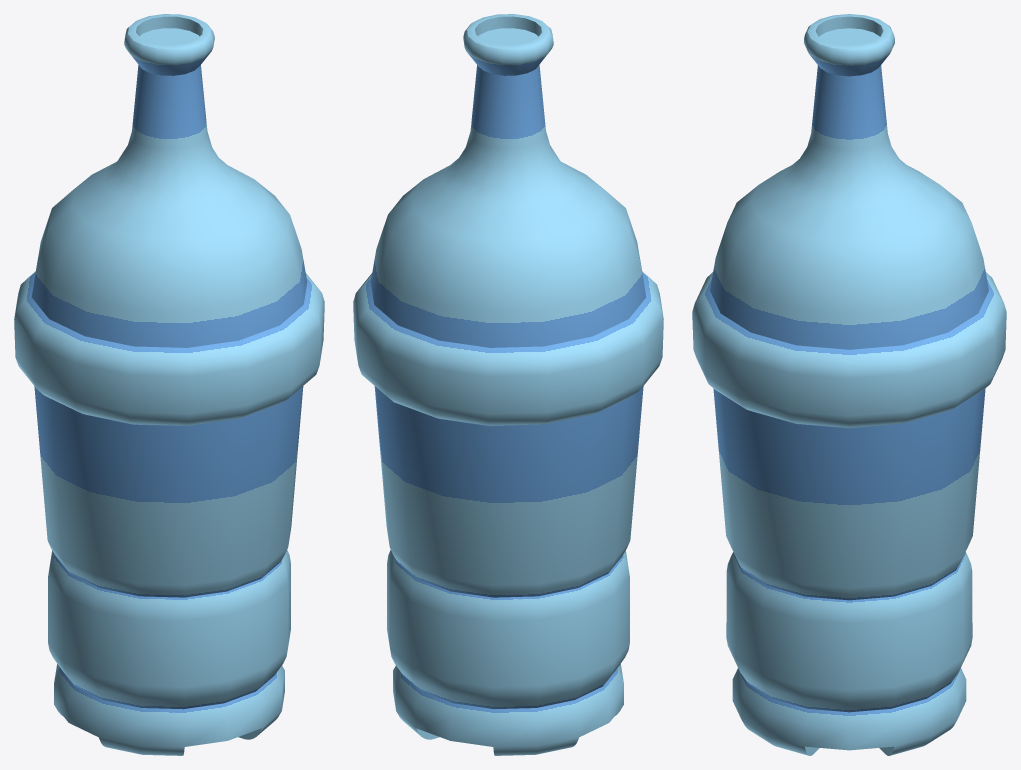
The model's file is botellaPlastico.fbx.
3 renders of one model, left to right at view 1: azimuth 30°, elevation 25°; view 2: azimuth 150°, elevation 25°; view 3: azimuth 270°, elevation 25°, orthographic.
Parts seen in each view (by area): view 1: botellaPlastico; view 2: botellaPlastico; view 3: botellaPlastico.
Part boxes in pixels (bbox=[...]): botellaPlastico: bbox=[14, 14, 324, 755]; botellaPlastico: bbox=[353, 14, 663, 755]; botellaPlastico: bbox=[692, 14, 1006, 755].
Bounding box in the file's own units: 38.42 × 92.57 × 38.42.
